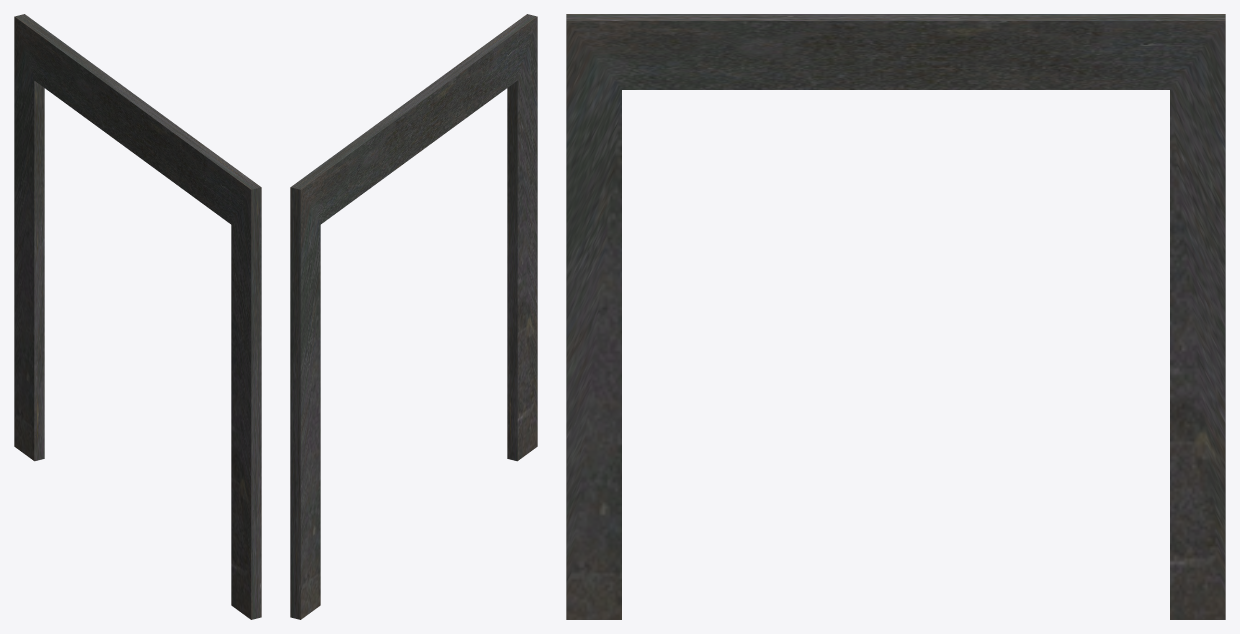
File: large_door_frame.fbx
3 views of the same model, side by side, from view 1: azimuth 30°, elevation 25°; view 2: azimuth 150°, elevation 25°; view 3: azimuth 270°, elevation 25° (orthographic). The views are drawn at different scales.
Visible parts, largest first — view 1: DoorFrame; view 2: DoorFrame; view 3: DoorFrame.
Part boxes in pixels (bbox=[...]): DoorFrame: bbox=[14, 14, 261, 619]; DoorFrame: bbox=[290, 14, 537, 619]; DoorFrame: bbox=[566, 14, 1225, 619].
Bounding box in the file's own units: 0.05 × 2 × 2.
1 material, 1 textured.
